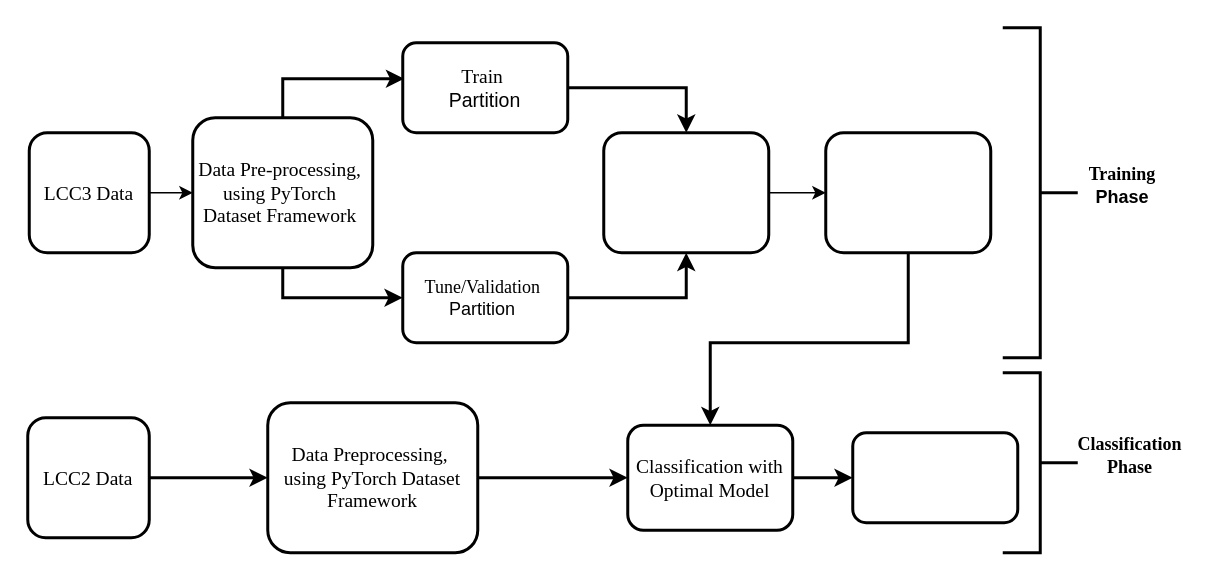
Some shapes in this 1223 by 579 pixel diagram are drawn without their labels. The shapes that lost their labels are listed below. From the top down, each one's box as (x1, y1, x2, y2) in pixels, then its label:
(602, 130, 770, 254): Hyperparameter Tuning Using Optuna Framework
(824, 130, 992, 254): Train Optimal Model with best Params
(850, 430, 1018, 524): Completed
